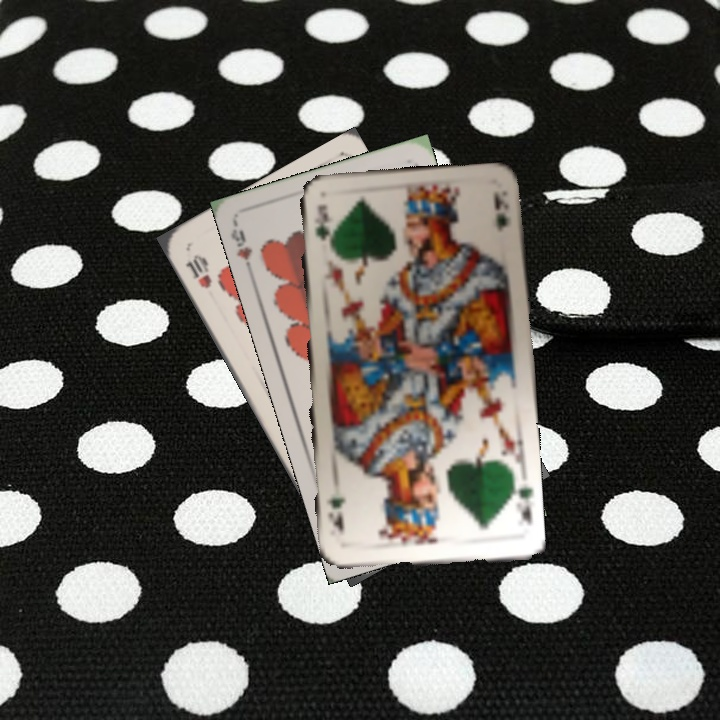GK: (507, 477, 534, 528), (311, 200, 333, 257)
H10: (181, 250, 214, 292)
H9: (227, 225, 256, 277)
